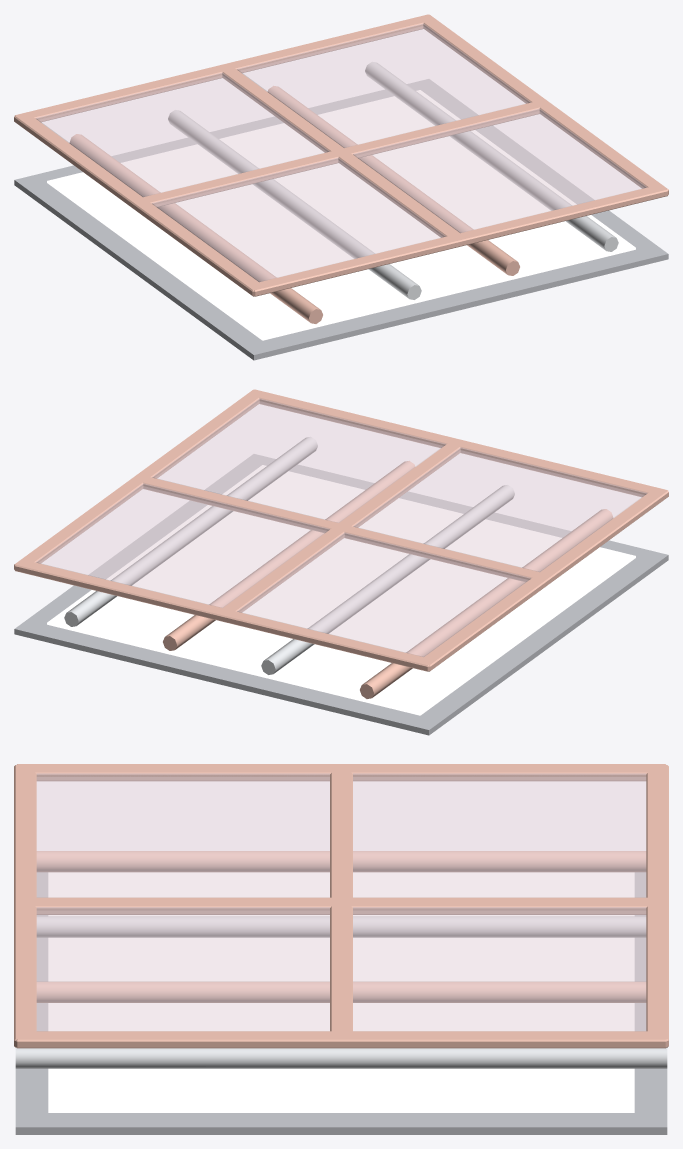
File: floor_glass.glb
The picture shows the model from 3 angles, top to bottom: view 1: azimuth 30°, elevation 25°; view 2: azimuth 150°, elevation 25°; view 3: azimuth 270°, elevation 25°; orthographic projection. The views are drawn at different scales.
Parts seen in each view (by area): view 1: floor_glass; view 2: floor_glass; view 3: floor_glass.
Boxes of the visible parts, box(x1,y1,x2,y2) form: floor_glass: box(14, 14, 668, 360); floor_glass: box(14, 389, 668, 735); floor_glass: box(14, 764, 668, 1134).
Bounding box in the file's own units: 4.02 × 0.645 × 4.02.
